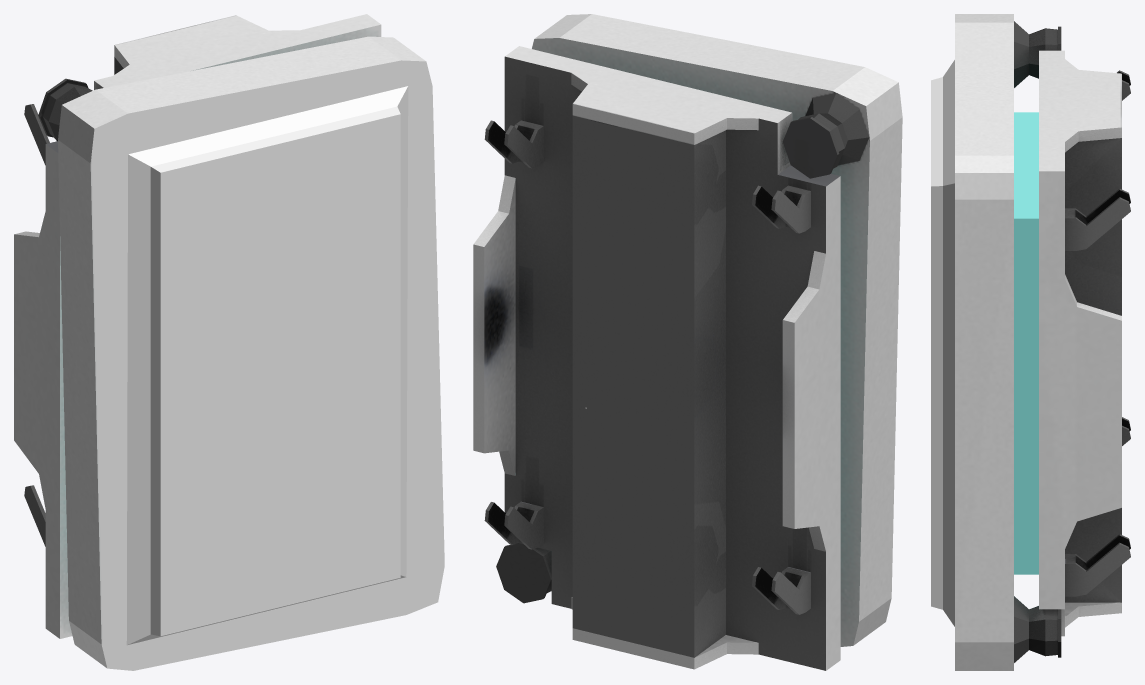
The model's file is body.obj.
3 views of the same model, side by side, from view 1: azimuth 30°, elevation 25°; view 2: azimuth 150°, elevation 25°; view 3: azimuth 270°, elevation 25° (orthographic). The views are drawn at different scales.
Parts seen in each view (by area): view 1: Body_Cube.009; view 2: Body_Cube.009; view 3: Body_Cube.009.
Boxes of the visible parts, left/top/right/bottom form: Body_Cube.009: left=14, top=14, right=444, bottom=670; Body_Cube.009: left=473, top=14, right=902, bottom=670; Body_Cube.009: left=931, top=14, right=1130, bottom=670.
Size of the model in its own units: 0.5793 by 0.89 by 0.3123.
Materials: 1 (1 with a texture image).
